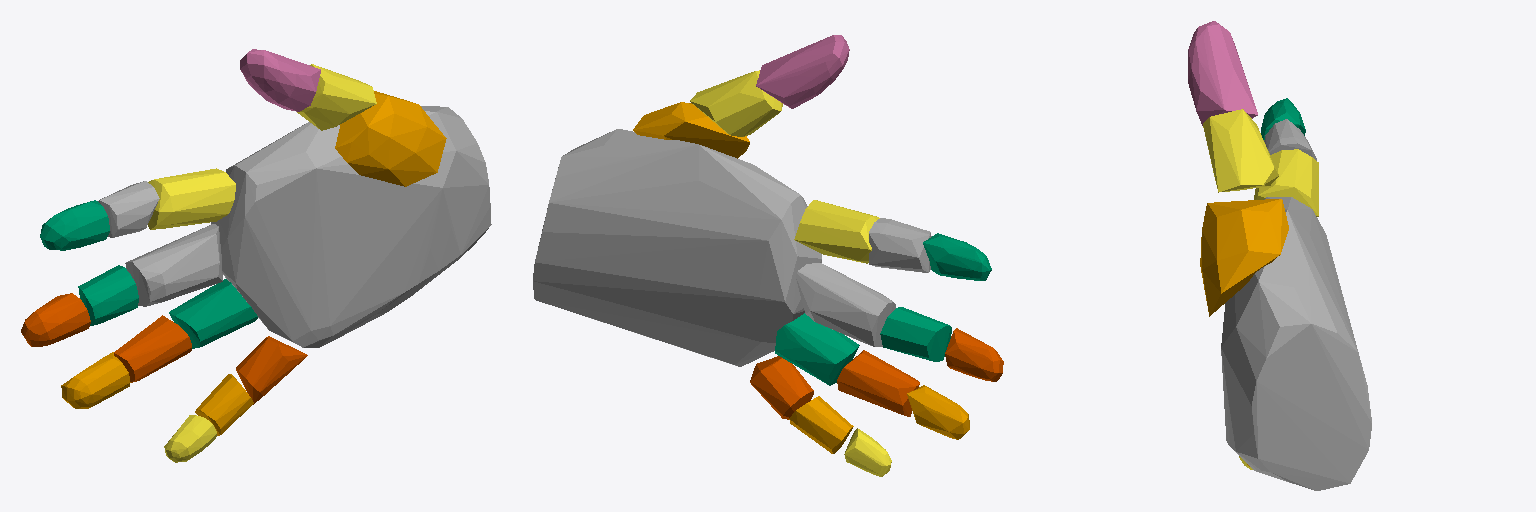
--- What the picture shows (computed from the rendered views, not written in the file) ---
Views: 3 orthographic renders of the robot side by side, from view 1: azimuth 30°, elevation 25°; view 2: azimuth 150°, elevation 25°; view 3: azimuth 270°, elevation 25°.
Robot: mano — 64 links, 63 joints (48 revolute, 3 prismatic, 12 fixed); root link world; default pose: every joint at zero.
Visible links, largest first — view 1: link_palm_rz, link_th_pm_z, link_mf_pm_z, link_ff_pm_z, link_th_dd_z, link_rf_pm_z, link_rf_md_z, link_th_md_z, link_ff_dd_z, link_mf_dd_z, link_lf_pm_z, link_mf_md_z (+4 smaller); view 2: link_palm_rz, link_mf_pm_z, link_th_dd_z, link_rf_pm_z, link_ff_pm_z, link_th_md_z, link_th_pm_z, link_rf_md_z, link_mf_md_z, link_ff_md_z, link_lf_pm_z, link_ff_dd_z (+4 smaller); view 3: link_palm_rz, link_th_pm_z, link_th_dd_z, link_th_md_z, link_ff_pm_z, link_ff_md_z, link_ff_dd_z.
Link boxes in pixels (left/top/right/bottom): link_palm_rz: left=211, top=106, right=491, bottom=347; link_th_pm_z: left=335, top=91, right=446, bottom=186; link_mf_pm_z: left=125, top=224, right=222, bottom=306; link_ff_pm_z: left=148, top=168, right=235, bottom=229; link_th_dd_z: left=240, top=49, right=320, bottom=111; link_rf_pm_z: left=169, top=279, right=257, bottom=348; link_rf_md_z: left=114, top=315, right=191, bottom=382; link_th_md_z: left=297, top=64, right=376, bottom=130; link_ff_dd_z: left=40, top=200, right=109, bottom=250; link_mf_dd_z: left=21, top=293, right=90, bottom=346; link_lf_pm_z: left=236, top=336, right=307, bottom=404; link_mf_md_z: left=78, top=265, right=138, bottom=325; link_palm_rz: left=533, top=129, right=821, bottom=366; link_mf_pm_z: left=796, top=263, right=895, bottom=346; link_th_dd_z: left=756, top=35, right=849, bottom=108; link_rf_pm_z: left=775, top=313, right=859, bottom=385; link_ff_pm_z: left=794, top=200, right=879, bottom=263; link_th_md_z: left=690, top=70, right=782, bottom=136; link_th_pm_z: left=633, top=102, right=749, bottom=158; link_rf_md_z: left=837, top=350, right=919, bottom=416; link_mf_md_z: left=880, top=307, right=951, bottom=361; link_ff_md_z: left=869, top=218, right=931, bottom=272; link_lf_pm_z: left=750, top=356, right=813, bottom=419; link_ff_dd_z: left=923, top=233, right=991, bottom=280; link_palm_rz: left=1221, top=197, right=1371, bottom=490; link_th_pm_z: left=1200, top=199, right=1288, bottom=316; link_th_dd_z: left=1188, top=21, right=1257, bottom=125; link_th_md_z: left=1203, top=109, right=1278, bottom=192; link_ff_pm_z: left=1254, top=149, right=1318, bottom=216; link_ff_md_z: left=1264, top=119, right=1316, bottom=160; link_ff_dd_z: left=1261, top=98, right=1305, bottom=139.
Size in the robot's own frame: 0.1951 by 0.0594 by 0.1689 metres.
16 mesh visuals loaded from 16 distinct referenced files (16 binary STL).

URDF robot description (mano):
<?xml version="0.0" ?>
<robot name="mano">



  <link name="world">  </link>

  <joint name="world_to_base" type="fixed">
    <axis xyz="0 0 0"/>
    <origin xyz="0.0 0.0 0.0"/>
    <parent link="world"/>
    <child link="sliderBar"/>
  </joint>

  <link name="sliderBar">
    <inertial>
      <mass value="0"/>
      <inertia ixx="1.0" ixy="0.0" ixz="0.0" iyy="1.0" iyz="0.0" izz="1.0"/>
    </inertial>
  </link>

    <!--
      Palm
    -->
    <!-- Palm -->
    <link name="palm">
		<inertial>
			<origin rpy="1.58112 0.01503 1.64315" xyz="-0.03429 -0.00198 0.00005"/>
			<mass value="0.25042"/>
			<inertia ixx="0.00043" ixy="0" ixz="0" iyy="0.00029" iyz="0" izz="0.00020"/>
		</inertial>
    </link>

    <link name="link_palm_y">
        <inertial>
            <origin rpy="0.00000 -0.00000 0.00000" xyz="0.00000 0.00000 0.00000"/>
            <mass value="0.00000"/>
            <inertia ixx="0.00000" ixy="0" ixz="0" iyy="0.00000" iyz="0" izz="0.00000"/>
        </inertial>
    </link>
    <link name="link_palm_z">
        <inertial>
            <origin rpy="0.00000 -0.00000 0.00000" xyz="0.00000 0.00000 0.00000"/>
            <mass value="0.00000"/>
            <inertia ixx="0.00000" ixy="0" ixz="0" iyy="0.00000" iyz="0" izz="0.00000"/>
        </inertial>
    </link>
    <link name="link_palm_rx">
        <inertial>
            <origin rpy="0.00000 -0.00000 0.00000" xyz="0.00000 0.00000 0.00000"/>
            <mass value="0.00000"/>
            <inertia ixx="0.00000" ixy="0" ixz="0" iyy="0.00000" iyz="0" izz="0.00000"/>
        </inertial>
    </link>
    <link name="link_palm_ry">
        <inertial>
            <origin rpy="0.00000 -0.00000 0.00000" xyz="0.00000 0.00000 0.00000"/>
            <mass value="0.00000"/>
            <inertia ixx="0.00000" ixy="0" ixz="0" iyy="0.00000" iyz="0" izz="0.00000"/>
        </inertial>
    </link>
    <link name="link_palm_rz">
        <inertial>
            <origin rpy="0.00000 -0.00000 0.00000" xyz="0.00000 0.00000 0.00000"/>
            <mass value="0.00000"/>
            <inertia ixx="0.00000" ixy="0" ixz="0" iyy="0.00000" iyz="0" izz="0.00000"/>
        </inertial>
        <visual>
            <origin rpy="0 0 0.0" xyz="0 0 0"/>
            <geometry>
                <mesh filename="meshes/palm_mean.stl" scale="1 1 1"/>
            </geometry>
        </visual>


    </link>
    <!-- Hip joint -->
   <joint name="WRJ0x" type="prismatic">
        <parent link="sliderBar"/>
        <child link="palm"/>
        <origin xyz="0.0 0.0 0.0"/>
        <axis xyz="1 0 0"/>
        <limit effort="100.0" />
        <dynamics damping="10.0" friction="0.0001"/>
    </joint>
    <joint name="WRJ0y" type="prismatic">
        <parent link="palm"/>
        <child link="link_palm_y"/>
        <origin xyz="0.0 0.0 0.0"/>
        <axis xyz="0 1 0"/>
        <limit effort="100.0" />
        <dynamics damping="10.0" friction="0.0001"/>
    </joint>
    <joint name="WRJ0z" type="prismatic">
        <parent link="link_palm_y"/>
        <child link="link_palm_z"/>
        <origin xyz="0.0 0.0 0.0"/>
        <axis xyz="0 0 1"/>
        <limit effort="100.0" />
        <dynamics damping="10.0" friction="0.0001"/>
    </joint>
    <joint name="WRJ0rx" type="revolute">
        <parent link="link_palm_z"/>
        <child link="link_palm_rx"/>
        <origin xyz="0.0 0.0 0.0"/>
        <axis xyz="1 0 0"/>
        <limit effort="1000" lower="-3.14" upper="3.14" velocity="0.5"/>
    </joint>
    <joint name="WRJ0ry" type="revolute">
        <parent link="link_palm_rx"/>
        <child link="link_palm_ry"/>
        <origin xyz="0.0 0.0 0.0"/>
        <axis xyz="0 1 0"/>
        <limit effort="1000" lower="-3.14" upper="3.14"  velocity="0.5"/>
    </joint>
    <joint name="WRJ0rz" type="revolute">
        <parent link="link_palm_ry"/>
        <child link="link_palm_rz"/>
        <origin xyz="0.0 0.0 0.0"/>
        <axis xyz="0 0 1"/>
        <limit effort="1000" lower="-3.14" upper="3.14"  velocity="0.5"/>
    </joint>


     <!-- FF -->
    <link name="fffixed">
        <inertial>
            <origin rpy="0.00000 -0.00000 0.00000" xyz="0.00000 0.00000 0.00000"/>
            <mass value="0.0"/>
            <inertia ixx="0.00000" ixy="0" ixz="0" iyy="0.00000" iyz="0" izz="0.00000"/>
        </inertial>
    </link>
    <!-- Fix Finger joint -->
    <joint name="Palm_FFJ2" type="fixed">
        <parent link="link_palm_rz"/>
        <child link="fffixed"/>
        <origin xyz="0.0 0.0 0.0"/>
    </joint>


    <link name="ffproximal">
		<inertial>
			<origin rpy="-0.62614 -1.47063 -2.57808" xyz="0.06969 0.00857 -0.01920"/>
			<mass value="0.00845"/>
			<inertia ixx="0.00000" ixy="0" ixz="0" iyy="0.00000" iyz="0" izz="0.00000"/>
		</inertial>
    </link>
    <link name="link_ff_pm_y">
        <inertial>
            <origin rpy="0.00000 -0.00000 0.00000" xyz="0.00000 0.00000 0.00000"/>
            <mass value="0.00000"/>
            <inertia ixx="0.00000" ixy="0" ixz="0" iyy="0.00000" iyz="0" izz="0.00000"/>
        </inertial>
    </link>
    <link name="link_ff_pm_z">
        <inertial>
            <origin rpy="0.00000 -0.00000 0.00000" xyz="0.00000 0.00000 0.00000"/>
            <mass value="0.00000"/>
            <inertia ixx="0.00000" ixy="0" ixz="0" iyy="0.00000" iyz="0" izz="0.00000"/>
        </inertial>

       <visual>
           <origin rpy="0 0 0.0" xyz="0 0 0"/>
           <geometry>
               <mesh filename="meshes/ffprox_mean.stl" scale="1 1 1"/>
           </geometry>
       </visual>
    </link>
    <!-- FF2 proximal joint -->
    <joint name="FFJ2" type="revolute">
        <parent link="fffixed"/>
        <child link="ffproximal"/>
        <origin xyz="-0.0880972 -0.00520036 0.020686"/>
        <axis xyz="1 0 0"/>
        <limit effort="1000" lower="-0.25000" upper="0.25000" velocity="0.5"/>

    </joint>
    <joint name="FFJ2_y" type="revolute">
        <parent link="ffproximal"/>
        <child link="link_ff_pm_y"/>
        <origin xyz="0 0 0"/>
        <axis xyz="0 1 0"/>
        <limit effort="1000" lower="-0.8" upper="0.8" velocity="0.5"/>

    </joint>
    <joint name="FFJ2_z" type="revolute">
        <parent link="link_ff_pm_y"/>
        <child link="link_ff_pm_z"/>
        <origin xyz="0 0 0"/>
        <axis xyz="0 0 1"/>
        <limit effort="1000" lower="-0.0" upper="1.57" velocity="0.5"/>

    </joint>

  <link name="ffmiddle_fixed">
        <inertial>
            <origin rpy="0.00000 -0.00000 0.00000" xyz="0.00000 0.00000 0.00000"/>
            <mass value="0.0"/>
            <inertia ixx="0.00000" ixy="0" ixz="0" iyy="0.00000" iyz="0" izz="0.00000"/>
        </inertial>
    </link>
    <link name="ffmiddle">
		<inertial>
			<origin rpy="1.37262 -0.25251 1.73296" xyz="0.10956 0.00102 -0.02288"/>
			<mass value="0.00413"/>
			<inertia ixx="0.00000" ixy="0" ixz="0" iyy="0.00000" iyz="0" izz="0.00000"/>
		</inertial>
    </link>
    <link name="link_ff_md_y">
        <inertial>
            <origin rpy="0.00000 -0.00000 0.00000" xyz="0.00000 0.00000 0.00000"/>
            <mass value="0.00000"/>
            <inertia ixx="0.00000" ixy="0" ixz="0" iyy="0.00000" iyz="0" izz="0.00000"/>
        </inertial>
    </link>
    <link name="link_ff_md_z">
        <inertial>
            <origin rpy="0.00000 -0.00000 0.00000" xyz="0.00000 0.00000 0.00000"/>
            <mass value="0.00000"/>
            <inertia ixx="0.00000" ixy="0" ixz="0" iyy="0.00000" iyz="0" izz="0.00000"/>
        </inertial>

       <visual>
           <origin rpy="0 0 0.0" xyz="0 0 0"/>
           <geometry>
               <mesh filename="meshes/ffmiddle_mean.stl" scale="1 1 1"/>
           </geometry>
       </visual>
    </link>
    <!-- FF1 joint -->
    <joint name="FFJ1_f" type="fixed">
        <parent link="link_ff_pm_z"/>
        <child link="ffmiddle_fixed"/>
        <origin xyz="-0.0326789 0.00400935 0.00221706"/>
        <axis xyz="1 0 0"/>
    </joint>
    <joint name="FFJ1" type="revolute">
        <parent link="ffmiddle_fixed"/>
        <child link="ffmiddle"/>
        <origin xyz="0.0 0.0 0.0"/>
        <axis xyz="1 0 0"/>
        <limit effort="1000" lower="-0.25000" upper="0.25000" velocity="0.5"/>

    </joint>
    <joint name="FFJ1_y" type="revolute">
        <parent link="ffmiddle"/>
        <child link="link_ff_md_y"/>
        <origin xyz="0.0 0.0 0.0"/>
        <axis xyz="0 1 0"/>
        <limit effort="1000" lower="-0.25000" upper="0.25000" velocity="0.5"/>

    </joint>
    <joint name="FFJ1_z" type="revolute">
        <parent link="link_ff_md_y"/>
        <child link="link_ff_md_z"/>
        <origin xyz="0.0 0.0 0.0"/>
        <axis xyz="0 0 1"/>
        <limit effort="1000" lower="-0.5000" upper="1.57" velocity="0.5"/>

    </joint>

    <link name="ffdistal">
		<inertial>
			<origin rpy="1.46564 0.28965 1.52696" xyz="0.13180 0.00199 -0.02293"/>
			<mass value="0.00293"/>
			<inertia ixx="0.00000" ixy="0" ixz="0" iyy="0.00000" iyz="0" izz="0.00000"/>
		</inertial>
    </link>
    <link name="link_ff_dd_y">
        <inertial>
            <origin rpy="0.00000 -0.00000 0.00000" xyz="0.00000 0.00000 0.00000"/>
            <mass value="0.00000"/>
            <inertia ixx="0.00000" ixy="0" ixz="0" iyy="0.00000" iyz="0" izz="0.00000"/>
        </inertial>
    </link>
    <link name="link_ff_dd_z">
        <inertial>
            <origin rpy="0.00000 -0.00000 0.00000" xyz="0.00000 0.00000 0.00000"/>
            <mass value="0.00000"/>
            <inertia ixx="0.00000" ixy="0" ixz="0" iyy="0.00000" iyz="0" izz="0.00000"/>
        </inertial>

       <visual>
           <origin rpy="0 0 0.0" xyz="0 0 0"/>
           <geometry>
               <mesh filename="meshes/ffdist_mean.stl" scale="1 1 1"/>
           </geometry>
       </visual>
    </link>
    <!-- FF1 joint -->
    <joint name="FFJ0" type="revolute">
        <parent link="link_ff_md_z"/>
        <child link="ffdistal"/>
        <origin xyz="-0.0221559 -0.00129842 -0.000114109"/>
        <axis xyz="1 0 0"/>
        <limit effort="1000" lower="-0.25000" upper="0.25000" velocity="0.5"/>

    </joint>
    <joint name="FFJ0_y" type="revolute">
        <parent link="ffdistal"/>
        <child link="link_ff_dd_y"/>
        <origin xyz="0.0 0.0 0.0"/>
        <axis xyz="0 1 0"/>
        <limit effort="1000" lower="-0.25000" upper="0.25000" velocity="0.5"/>

    </joint>
    <joint name="FFJ0_z" type="revolute">
        <parent link="link_ff_dd_y"/>
        <child link="link_ff_dd_z"/>
        <origin xyz="0.0 0.0 0.0"/>
        <axis xyz="0 0 1"/>
        <limit effort="1000" lower="-0.000" upper="1.57" velocity="0.5"/>

    </joint>

    <link name="link_fftip">
                <inertial>
                    <origin rpy="0.00000 -0.00000 0.00000" xyz="0.00000 0.00000 0.00000"/>
                    <mass value="0.00000"/>
                    <inertia ixx="0.00000" ixy="0" ixz="0" iyy="0.00000" iyz="0" izz="0.00000"/>
                </inertial>
    </link>
        <!-- Fix Finger joint -->
    <joint name="FFTip" type="fixed">
            <parent link="link_ff_dd_z"/>
            <child link="link_fftip"/>
            <origin xyz="-0.02326277  0.00071796  0.00404926"/>
    </joint>

    <!-- MF -->
    <link name="mffixed">
        <inertial>
            <origin rpy="0.00000 -0.00000 0.00000" xyz="0.00000 0.00000 0.00000"/>
            <mass value="0.0"/>
            <inertia ixx="0.00000" ixy="0" ixz="0" iyy="0.00000" iyz="0" izz="0.00000"/>
        </inertial>
    </link>
    <!-- Fix Finger joint -->
    <joint name="Palm_MFJ2" type="fixed">
        <parent link="link_palm_rz"/>
        <child link="mffixed"/>
        <origin xyz="0.0 0.0 0.0"/>
    </joint>


    <link name="mfproximal">
		<inertial>
			<origin rpy="1.32892 0.20760 1.52264" xyz="0.08062 0.00385 0.00038"/>
			<mass value="0.00996"/>
			<inertia ixx="0.00000" ixy="0" ixz="0" iyy="0.00000" iyz="0" izz="0.00000"/>
		</inertial>
    </link>
    <link name="link_mf_pm_y">
        <inertial>
            <origin rpy="0.00000 -0.00000 0.00000" xyz="0.00000 0.00000 0.00000"/>
            <mass value="0.00000"/>
            <inertia ixx="0.00000" ixy="0" ixz="0" iyy="0.00000" iyz="0" izz="0.00000"/>
        </inertial>
    </link>
    <link name="link_mf_pm_z">
        <inertial>
            <origin rpy="0.00000 -0.00000 0.00000" xyz="0.00000 0.00000 0.00000"/>
            <mass value="0.00000"/>
            <inertia ixx="0.00000" ixy="0" ixz="0" iyy="0.00000" iyz="0" izz="0.00000"/>
        </inertial>

       <visual>
           <origin rpy="0 0 0.0" xyz="0 0 0"/>
           <geometry>
               <mesh filename="meshes/mfprox_mean.stl" scale="1 1 1"/>
           </geometry>
       </visual>

    </link>
    <!-- MF2 proximal joint -->
    <joint name="MFJ2" type="revolute">
        <parent link="mffixed"/>
        <child link="mfproximal"/>
        <origin xyz="-0.0946604 -0.00147896 -0.00335754"/>
        <axis xyz="1 0 0"/>
        <limit effort="1000" lower="-0.25000" upper="0.25000" velocity="0.5"/>

    </joint>
    <joint name="MFJ2_y" type="revolute">
        <parent link="mfproximal"/>
        <child link="link_mf_pm_y"/>
        <origin xyz="0.0 0.0 0.0"/>
        <axis xyz="0 1 0"/>
        <limit effort="1000" lower="-0.8" upper="0.8" velocity="0.5"/>

    </joint>
    <joint name="MFJ2_z" type="revolute">
        <parent link="link_mf_pm_y"/>
        <child link="link_mf_pm_z"/>
        <origin xyz="0.0 0.0 0.0"/>
        <axis xyz="0 0 1"/>
        <limit effort="1000" lower="-0.0" upper="1.57" velocity="0.5"/>

    </joint>

    <link name="mfmiddle">
		<inertial>
			<origin rpy="1.36785 0.19063 1.79335" xyz="0.11276 -0.00059 0.00674"/>
			<mass value="0.00400"/>
			<inertia ixx="0.00000" ixy="0" ixz="0" iyy="0.00000" iyz="0" izz="0.00000"/>
		</inertial>
    </link>
    <link name="link_mf_md_y">
        <inertial>
            <origin rpy="0.00000 -0.00000 0.00000" xyz="0.00000 0.00000 0.00000"/>
            <mass value="0.00000"/>
            <inertia ixx="0.00000" ixy="0" ixz="0" iyy="0.00000" iyz="0" izz="0.00000"/>
        </inertial>
    </link>
    <link name="link_mf_md_z">
        <inertial>
            <origin rpy="0.00000 -0.00000 0.00000" xyz="0.00000 0.00000 0.00000"/>
            <mass value="0.00000"/>
            <inertia ixx="0.00000" ixy="0" ixz="0" iyy="0.00000" iyz="0" izz="0.00000"/>
        </inertial>

   <visual>
       <origin rpy="0 0 0.0" xyz="0 0 0"/>
       <geometry>
           <mesh filename="meshes/mfmiddle_mean.stl" scale="1 1 1"/>
       </geometry>
   </visual>
    </link>
    <!-- MF1 joint -->
    <joint name="MFJ1" type="revolute">
        <parent link="link_mf_pm_z"/>
        <child link="mfmiddle"/>
        <origin xyz="-0.0311827 0.00186133 -0.00559451"/>
        <axis xyz="1 0 0"/>
        <limit effort="1000" lower="-0.25000" upper="0.25000" velocity="0.5"/>

    </joint>
    <joint name="MFJ1_y" type="revolute">
        <parent link="mfmiddle"/>
        <child link="link_mf_md_y"/>
        <origin xyz="0.0 0.0 0.0"/>
        <axis xyz="0 1 0"/>
        <limit effort="1000" lower="-0.25000" upper="0.25000" velocity="0.5"/>

    </joint>
    <joint name="MFJ1_z" type="revolute">
        <parent link="link_mf_md_y"/>
        <child link="link_mf_md_z"/>
        <origin xyz="0.0 0.0 0.0"/>
        <axis xyz="0 0 1"/>
        <limit effort="1000" lower="-0.000" upper="1.57" velocity="0.5"/>

    </joint>

    <link name="mfdistal">
		<inertial>
			<origin rpy="1.31977 0.24217 1.38225" xyz="0.13534 0.00074 0.01081"/>
			<mass value="0.00289"/>
			<inertia ixx="0.00000" ixy="0" ixz="0" iyy="0.00000" iyz="0" izz="0.00000"/>
		</inertial>
    </link>
    <link name="link_mf_dd_y">
        <inertial>
            <origin rpy="0.00000 -0.00000 0.00000" xyz="0.00000 0.00000 0.00000"/>
            <mass value="0.00000"/>
            <inertia ixx="0.00000" ixy="0" ixz="0" iyy="0.00000" iyz="0" izz="0.00000"/>
        </inertial>
    </link>
    <link name="link_mf_dd_z">
        <inertial>
            <origin rpy="0.00000 -0.00000 0.00000" xyz="0.00000 0.00000 0.00000"/>
            <mass value="0.00000"/>
            <inertia ixx="0.00000" ixy="0" ixz="0" iyy="0.00000" iyz="0" izz="0.00000"/>
        </inertial>

       <visual>
           <origin rpy="0 0 0.0" xyz="0 0 0"/>
           <geometry>
               <mesh filename="meshes/mfdist_mean.stl" scale="1 1 1"/>
           </geometry>
       </visual>
    </link>
    <!-- MF0 joint -->
    <joint name="MFJ0" type="revolute">
        <parent link="link_mf_md_z"/>
        <child link="mfdistal"/>
        <origin xyz="-0.0229046 -0.0012521 -0.00394452"/>
        <axis xyz="1 0 0"/>
        <limit effort="1000" lower="-0.25000" upper="0.25000" velocity="0.5"/>

    </joint>
    <joint name="MFJ0_y" type="revolute">
        <parent link="mfdistal"/>
        <child link="link_mf_dd_y"/>
        <origin xyz="0.0 0.0 0.0"/>
        <axis xyz="0 1 0"/>
        <limit effort="1000" lower="-0.25000" upper="0.25000" velocity="0.5"/>

    </joint>
    <joint name="MFJ0_z" type="revolute">
        <parent link="link_mf_dd_y"/>
        <child link="link_mf_dd_z"/>
        <origin xyz="0.0 0.0 0.0"/>
        <axis xyz="0 0 1"/>
        <limit effort="1000" lower="-0.000" upper="1.57" velocity="0.5"/>

    </joint>

    <link name="link_mftip">
            <inertial>
                <origin rpy="0.00000 -0.00000 0.00000" xyz="0.00000 0.00000 0.00000"/>
                <mass value="0.00000"/>
                <inertia ixx="0.00000" ixy="0" ixz="0" iyy="0.00000" iyz="0" izz="0.00000"/>
            </inertial>
    </link>
        <!-- Fix Finger joint -->
    <joint name="MFTip" type="fixed">
            <parent link="link_mf_dd_z"/>
            <child link="link_mftip"/>
            <origin xyz="-0.03103006 -0.0014151  -0.00637153"/>
    </joint>

    <!-- RF -->
    <link name="rffixed">
        <inertial>
            <origin rpy="0.00000 -0.00000 0.00000" xyz="0.00000 0.00000 0.00000"/>
            <mass value="0.0"/>
            <inertia ixx="0.00000" ixy="0" ixz="0" iyy="0.00000" iyz="0" izz="0.00000"/>
        </inertial>
    </link>

    <!-- Fix Finger joint -->
    <joint name="Palm_RFJ2" type="fixed">
        <parent link="link_palm_rz"/>
        <child link="rffixed"/>
        <origin xyz="0.0 0.0 0.0"/>
    </joint>


    <link name="rfproximal">
		<inertial>
			<origin rpy="-1.12499 -1.03767 -1.92594" xyz="0.06944 0.00644 0.02597"/>
			<mass value="0.00725"/>
			<inertia ixx="0.00000" ixy="0" ixz="0" iyy="0.00000" iyz="0" izz="0.00000"/>
		</inertial>
    </link>
    <link name="link_rf_pm_y">
        <inertial>
            <origin rpy="0.00000 -0.00000 0.00000" xyz="0.00000 0.00000 0.00000"/>
            <mass value="0.00000"/>
            <inertia ixx="0.00000" ixy="0" ixz="0" iyy="0.00000" iyz="0" izz="0.00000"/>
        </inertial>
    </link>
    <link name="link_rf_pm_z">
        <inertial>
            <origin rpy="0.00000 -0.00000 0.00000" xyz="0.00000 0.00000 0.00000"/>
            <mass value="0.00000"/>
            <inertia ixx="0.00000" ixy="0" ixz="0" iyy="0.00000" iyz="0" izz="0.00000"/>
        </inertial>

       <visual>
           <origin rpy="0 0 0.0" xyz="0 0 0"/>
           <geometry>
               <mesh filename="meshes/rfprox_mean.stl" scale="1 1 1"/>
           </geometry>
       </visual>
    </link>
    <!-- RF2 proximal joint -->
    <joint name="RFJ2" type="revolute">
        <parent link="rffixed"/>
        <child link="rfproximal"/>
        <origin xyz="-0.0817355 -0.00395742 -0.0266732"/>
        <axis xyz="1 0 0"/>
        <limit effort="1000" lower="-0.25000" upper="0.25000" velocity="0.5"/>

    </joint>
    <joint name="RFJ2_y" type="revolute">
        <parent link="rfproximal"/>
        <child link="link_rf_pm_y"/>
        <origin xyz="0.0 0.0 0.0"/>
        <axis xyz="0 1 0"/>
        <limit effort="1000" lower="-0.8" upper="0.8" velocity="0.5"/>

    </joint>
    <joint name="RFJ2_z" type="revolute">
        <parent link="link_rf_pm_y"/>
        <child link="link_rf_pm_z"/>
        <origin xyz="0.0 0.0 0.0"/>
        <axis xyz="0 0 1"/>
        <limit effort="1000" lower="-0.0" upper="1.57" velocity="0.5"/>

    </joint>

    <link name="rfmiddle">
		<inertial>
			<origin rpy="1.27220 0.24142 1.59300" xyz="0.09885 0.00150 0.02757"/>
			<mass value="0.00487"/>
			<inertia ixx="0.00000" ixy="0" ixz="0" iyy="0.00000" iyz="0" izz="0.00000"/>
		</inertial>
    </link>
    <link name="link_rf_md_y">
        <inertial>
            <origin rpy="0.00000 -0.00000 0.00000" xyz="0.00000 0.00000 0.00000"/>
            <mass value="0.00000"/>
            <inertia ixx="0.00000" ixy="0" ixz="0" iyy="0.00000" iyz="0" izz="0.00000"/>
        </inertial>
    </link>
    <link name="link_rf_md_z">
        <inertial>
            <origin rpy="0.00000 -0.00000 0.00000" xyz="0.00000 0.00000 0.00000"/>
            <mass value="0.00000"/>
            <inertia ixx="0.00000" ixy="0" ixz="0" iyy="0.00000" iyz="0" izz="0.00000"/>
        </inertial>

       <visual>
           <origin rpy="0 0 0.0" xyz="0 0 0"/>
           <geometry>
               <mesh filename="meshes/rfmiddle_mean.stl" scale="1 1 1"/>
           </geometry>
       </visual>
    </link>
    <!-- RF1 joint -->
    <joint name="RFJ1" type="revolute">
        <parent link="link_rf_pm_z"/>
        <child link="rfmiddle"/>
        <origin xyz="-0.0283143 0.00206701 -0.00509854"/>
        <axis xyz="1 0 0"/>
        <limit effort="1000" lower="-0.25000" upper="0.25000" velocity="0.5"/>

    </joint>
    <joint name="RFJ1_y" type="revolute">
        <parent link="rfmiddle"/>
        <child link="link_rf_md_y"/>
        <origin xyz="0.0 0.0 0.0"/>
        <axis xyz="0 1 0"/>
        <limit effort="1000" lower="-0.25000" upper="0.25000" velocity="0.5"/>

    </joint>
    <joint name="RFJ1_z" type="revolute">
        <parent link="link_rf_md_y"/>
        <child link="link_rf_md_z"/>
        <origin xyz="0.0 0.0 0.0"/>
        <axis xyz="0 0 1"/>
        <limit effort="1000" lower="-0.000" upper="1.57" velocity="0.5"/>

    </joint>

    <link name="rfdistal">
		<inertial>
			<origin rpy="1.25957 0.23826 1.45394" xyz="0.12158 0.00349 0.03689"/>
			<mass value="0.00272"/>
			<inertia ixx="0.00000" ixy="0" ixz="0" iyy="0.00000" iyz="0" izz="0.00000"/>
		</inertial>
    </link>
    <link name="link_rf_dd_y">
        <inertial>
            <origin rpy="0.00000 -0.00000 0.00000" xyz="0.00000 0.00000 0.00000"/>
            <mass value="0.00000"/>
            <inertia ixx="0.00000" ixy="0" ixz="0" iyy="0.00000" iyz="0" izz="0.00000"/>
        </inertial>
    </link>
    <link name="link_rf_dd_z">
        <inertial>
            <origin rpy="0.00000 -0.00000 0.00000" xyz="0.00000 0.00000 0.00000"/>
            <mass value="0.00000"/>
            <inertia ixx="0.00000" ixy="0" ixz="0" iyy="0.00000" iyz="0" izz="0.00000"/>
        </inertial>

       <visual>
         <origin rpy="0 0 0.0" xyz="0 0 0"/>
         <geometry>
             <mesh filename="meshes/rfdist_mean.stl" scale="1 1 1"/>
         </geometry>
       </visual>
    </link>
    <!-- RF0 joint -->
    <joint name="RFJ0" type="revolute">
        <parent link="link_rf_md_z"/>
        <child link="rfdistal"/>
        <origin xyz="-0.0235205 -0.00168811 -0.00763382"/>
        <axis xyz="1 0 0"/>
        <limit effort="1000" lower="-0.25000" upper="0.25000" velocity="0.5"/>

    </joint>
    <joint name="RFJ0_y" type="revolute">
        <parent link="rfdistal"/>
        <child link="link_rf_dd_y"/>
        <origin xyz="0.0 0.0 0.0"/>
        <axis xyz="0 1 0"/>
        <limit effort="1000" lower="-0.25000" upper="0.25000" velocity="0.5"/>

    </joint>
    <joint name="RFJ0_z" type="revolute">
        <parent link="link_rf_dd_y"/>
        <child link="link_rf_dd_z"/>
        <origin xyz="0.0 0.0 0.0"/>
        <axis xyz="0 0 1"/>
        <limit effort="1000" lower="-0.000" upper="1.57" velocity="0.5"/>

    </joint>

    <link name="link_rftip">
            <inertial>
                <origin rpy="0.00000 -0.00000 0.00000" xyz="0.00000 0.00000 0.00000"/>
                <mass value="0.00000"/>
                <inertia ixx="0.00000" ixy="0" ixz="0" iyy="0.00000" iyz="0" izz="0.00000"/>
            </inertial>
    </link>
        <!-- Fix Finger joint -->
    <joint name="RFTip" type="fixed">
            <parent link="link_rf_dd_z"/>
            <child link="link_rftip"/>
            <origin xyz="-0.02920424  0.00374213 -0.00808987"/>
    </joint>

     <!-- LF -->
    <link name="lffixed">
        <inertial>
            <origin rpy="0.00000 -0.00000 0.00000" xyz="0.00000 0.00000 0.00000"/>
            <mass value="0.0"/>
            <inertia ixx="0.00000" ixy="0" ixz="0" iyy="0.00000" iyz="0" izz="0.00000"/>
        </inertial>
    </link>
    <!-- Fix Finger joint -->
    <joint name="Palm_LFJ2" type="fixed">
        <parent link="link_palm_rz"/>
        <child link="lffixed"/>
        <origin xyz="0.0 0.0 0.0"/>
    </joint>


    <link name="lfproximal">
		<inertial>
			<origin rpy="0.98931 0.08796 1.53876" xyz="0.06149 0.01115 0.03613"/>
			<mass value="0.00416"/>
			<inertia ixx="0.00000" ixy="0" ixz="0" iyy="0.00000" iyz="0" izz="0.00000"/>
		</inertial>
    </link>
    <link name="link_lf_pm_y">
        <inertial>
            <origin rpy="0.00000 -0.00000 0.00000" xyz="0.00000 0.00000 0.00000"/>
            <mass value="0.00000"/>
            <inertia ixx="0.00000" ixy="0" ixz="0" iyy="0.00000" iyz="0" izz="0.00000"/>
        </inertial>
    </link>
    <link name="link_lf_pm_z">
        <inertial>
            <origin rpy="0.00000 -0.00000 0.00000" xyz="0.00000 0.00000 0.00000"/>
            <mass value="0.00000"/>
            <inertia ixx="0.00000" ixy="0" ixz="0" iyy="0.00000" iyz="0" izz="0.00000"/>
        </inertial>

       <visual>
           <origin rpy="0 0 0.0" xyz="0 0 0"/>
           <geometry>
               <mesh filename="meshes/lfprox_mean.stl" scale="1 1 1"/>
           </geometry>
       </visual>
    </link>
    <!-- LF2 proximal joint -->
    <joint name="LFJ2" type="revolute">
        <parent link="lffixed"/>
        <child link="lfproximal"/>
        <origin xyz="-0.0687869 -0.00994033 -0.0432093"/>
        <axis xyz="1 0 0"/>
        <limit effort="1000" lower="-0.25000" upper="0.25000" velocity="0.5"/>

    </joint>
    <joint name="LFJ2_y" type="revolute">
        <parent link="lfproximal"/>
        <child link="link_lf_pm_y"/>
        <origin xyz="0.0 0.0 0.0"/>
        <axis xyz="0 1 0"/>
        <limit effort="1000" lower="-0.8" upper="0.8" velocity="0.5"/>

    </joint>
    <joint name="LFJ2_z" type="revolute">
        <parent link="link_lf_pm_y"/>
        <child link="link_lf_pm_z"/>
        <origin xyz="0.0 0.0 0.0"/>
        <axis xyz="0 0 1"/>
        <limit effort="1000"  lower="-0.0" upper="1.57" velocity="0.5"/>

    </joint>

    <link name="lfmiddle">
		<inertial>
			<origin rpy="0.93554 0.47504 1.36883" xyz="0.07794 0.01096 0.04952"/>
			<mass value="0.00269"/>
			<inertia ixx="0.00000" ixy="0" ixz="0" iyy="0.00000" iyz="0" izz="0.00000"/>
		</inertial>
    </link>
    <link name="link_lf_md_y">
        <inertial>
            <origin rpy="0.00000 -0.00000 0.00000" xyz="0.00000 0.00000 0.00000"/>
            <mass value="0.00000"/>
            <inertia ixx="0.00000" ixy="0" ixz="0" iyy="0.00000" iyz="0" izz="0.00000"/>
        </inertial>
    </link>
    <link name="link_lf_md_z">
        <inertial>
            <origin rpy="0.00000 -0.00000 0.00000" xyz="0.00000 0.00000 0.00000"/>
            <mass value="0.00000"/>
            <inertia ixx="0.00000" ixy="0" ixz="0" iyy="0.00000" iyz="0" izz="0.00000"/>
        </inertial>

   <visual>
       <origin rpy="0 0 0.0" xyz="0 0 0"/>
       <geometry>
           <mesh filename="meshes/lfmiddle_mean.stl" scale="1 1 1"/>
       </geometry>
   </visual>
    </link>
    <!-- LF1 joint -->
    <joint name="LFJ1" type="revolute">
        <parent link="link_lf_pm_z"/>
        <child link="lfmiddle"/>
        <origin xyz="-0.0170144 6.18249e-05 -0.0124988"/>
        <axis xyz="1 0 0"/>
        <limit effort="1000" lower="-0.25000" upper="0.25000" velocity="0.5"/>

    </joint>
    <joint name="LFJ1_y" type="revolute">
        <parent link="lfmiddle"/>
        <child link="link_lf_md_y"/>
        <origin xyz="0.0 0.0 0.0"/>
        <axis xyz="0 1 0"/>
        <limit effort="1000" lower="-0.25000" upper="0.25000" velocity="0.5"/>

    </joint>
    <joint name="LFJ1_z" type="revolute">
        <parent link="link_lf_md_y"/>
        <child link="link_lf_md_z"/>
        <origin xyz="0.0 0.0 0.0"/>
        <axis xyz="0 0 1"/>
        <limit effort="1000" lower="-0.000" upper="1.57" velocity="0.5"/>

    </joint>

    <link name="lfdistal">
		<inertial>
			<origin rpy="1.07016 0.12658 1.51486" xyz="0.09286 0.00961 0.06201"/>
			<mass value="0.00150"/>
			<inertia ixx="0.00000" ixy="0" ixz="0" iyy="0.00000" iyz="0" izz="0.00000"/>
		</inertial>
    </link>
    <link name="link_lf_dd_y">
        <inertial>
            <origin rpy="0.00000 -0.00000 0.00000" xyz="0.00000 0.00000 0.00000"/>
            <mass value="0.00000"/>
            <inertia ixx="0.00000" ixy="0" ixz="0" iyy="0.00000" iyz="0" izz="0.00000"/>
        </inertial>
    </link>
    <link name="link_lf_dd_z">
        <inertial>
            <origin rpy="0.00000 -0.00000 0.00000" xyz="0.00000 0.00000 0.00000"/>
            <mass value="0.00000"/>
            <inertia ixx="0.00000" ixy="0" ixz="0" iyy="0.00000" iyz="0" izz="0.00000"/>
        </inertial>

       <visual>
           <origin rpy="0 0 0.0" xyz="0 0 0"/>
           <geometry>
               <mesh filename="meshes/lfdist_mean.stl" scale="1 1 1"/>
           </geometry>
       </visual>
    </link>
    <!-- LF0 joint -->
    <joint name="LFJ0" type="revolute">
        <parent link="link_lf_md_z"/>
        <child link="lfdistal"/>
        <origin xyz="-0.0158669 -0.000691155 -0.0103319"/>
        <axis xyz="1 0 0"/>
        <limit effort="1000" lower="-0.25000" upper="0.25000" velocity="0.5"/>

    </joint>
    <joint name="LFJ0_y" type="revolute">
        <parent link="lfdistal"/>
        <child link="link_lf_dd_y"/>
        <origin xyz="0.0 0.0 0.0"/>
        <axis xyz="0 1 0"/>
        <limit effort="1000" lower="-0.25000" upper="0.25000" velocity="0.5"/>

    </joint>
    <joint name="LFJ0_z" type="revolute">
        <parent link="link_lf_dd_y"/>
        <child link="link_lf_dd_z"/>
        <origin xyz="0.0 0.0 0.0"/>
        <axis xyz="0 0 1"/>
        <limit effort="1000" lower="-0.000" upper="1.57" velocity="0.5"/>

    </joint>
    <link name="link_lftip">
        <inertial>
            <origin rpy="0.00000 -0.00000 0.00000" xyz="0.00000 0.00000 0.00000"/>
            <mass value="0.00000"/>
            <inertia ixx="0.00000" ixy="0" ixz="0" iyy="0.00000" iyz="0" izz="0.00000"/>
        </inertial>
    </link>
    <!-- Fix Finger joint -->
    <joint name="LFTip" type="fixed">
        <parent link="link_lf_dd_z"/>
        <child link="link_lftip"/>
        <origin xyz="-0.0195595   0.0025909  -0.01148116"/>
    </joint>


    <!-- TH -->
    <link name="thfixed">
        <inertial>
            <origin rpy="0.00000 -0.00000 0.00000" xyz="0.00000 0.00000 0.00000"/>
            <mass value="0.0"/>
            <inertia ixx="0.00000" ixy="0" ixz="0" iyy="0.00000" iyz="0" izz="0.00000"/>
        </inertial>
    </link>
    <!-- Fix Finger joint -->
    <joint name="Palm_THJ2" type="fixed">
        <parent link="link_palm_rz"/>
        <child link="thfixed"/>
        <origin xyz="0.0 0.0 0.0"/>
    </joint>


    <link name="thproximal">
		<inertial>
			<origin rpy="-1.80697 -0.79472 -1.24970" xyz="0.01872 0.01295 -0.01284"/>
			<mass value="0.01392"/>
			<inertia ixx="0.00000" ixy="0" ixz="0" iyy="0.00000" iyz="0" izz="0.00000"/>
		</inertial>
    </link>
    <link name="link_th_pm_y">
        <inertial>
            <origin rpy="0.00000 -0.00000 0.00000" xyz="0.00000 0.00000 0.00000"/>
            <mass value="0.00000"/>
            <inertia ixx="0.00000" ixy="0" ixz="0" iyy="0.00000" iyz="0" izz="0.00000"/>
        </inertial>
    </link>
    <link name="link_th_pm_z">
        <inertial>
            <origin rpy="0.00000 -0.00000 0.00000" xyz="0.00000 0.00000 0.00000"/>
            <mass value="0.00000"/>
            <inertia ixx="0.00000" ixy="0" ixz="0" iyy="0.00000" iyz="0" izz="0.00000"/>
        </inertial>

       <visual>
           <origin rpy="0 0 0.0" xyz="0 0 0"/>
           <geometry>
               <mesh filename="meshes/thprox_mean.stl" scale="1 1 1"/>
           </geometry>
       </visual>
    </link>
    <!-- TH2 proximal joint -->
    <joint name="THJ2" type="revolute">
        <parent link="thfixed"/>
        <child link="thproximal"/>
        <origin xyz="-0.0240897 -0.0155223 0.0258128"/>
        <axis xyz="1 0 0"/>
        <limit effort="1000" lower="0" upper="1.57" velocity="0.5"/>
    </joint>
    <joint name="THJ2_y" type="revolute">
        <parent link="thproximal"/>
        <child link="link_th_pm_y"/>
        <origin xyz="0.0 0.0 0.0"/>
        <axis xyz="0 1 0"/>
        <limit effort="1000" lower="-0.8" upper="0.8" velocity="0.5"/>
    </joint>
    <joint name="THJ2_z" type="revolute">
        <parent link="link_th_pm_y"/>
        <child link="link_th_pm_z"/>
        <origin xyz="0.0 0.0 0.0"/>
        <axis xyz="0 0 1"/>
        <limit effort="1000" lower="-0.25" upper="0.25" velocity="0.5"/>
    </joint>

    <link name="thmiddle">
		<inertial>
			<origin rpy="2.09811 -1.08828 1.27625" xyz="0.03297 0.01229 -0.04103"/>
			<mass value="0.00802"/>
			<inertia ixx="0.00000" ixy="0" ixz="0" iyy="0.00000" iyz="0" izz="0.00000"/>
		</inertial>
    </link>
    <link name="link_th_md_y">
        <inertial>
            <origin rpy="0.00000 -0.00000 0.00000" xyz="0.00000 0.00000 0.00000"/>
            <mass value="0.00000"/>
            <inertia ixx="0.00000" ixy="0" ixz="0" iyy="0.00000" iyz="0" izz="0.00000"/>
        </inertial>
    </link>
    <link name="link_th_md_z">
        <inertial>
            <origin rpy="0.00000 -0.00000 0.00000" xyz="0.00000 0.00000 0.00000"/>
            <mass value="0.00000"/>
            <inertia ixx="0.00000" ixy="0" ixz="0" iyy="0.00000" iyz="0" izz="0.00000"/>
        </inertial>

       <visual>
           <origin rpy="0 0 0.0" xyz="0 0 0"/>
           <geometry>
               <mesh filename="meshes/thmiddle_mean.stl" scale="1 1 1"/>
           </geometry>
       </visual>
    </link>
    <!-- TH1 joint -->
    <joint name="THJ1" type="revolute">
        <parent link="link_th_pm_z"/>
        <child link="thmiddle"/>
        <origin xyz="-0.0196332 0.000891286 0.0236995"/>
        <axis xyz="1 0 0"/>
        <limit effort="1000" lower="-1" upper="1" velocity="0.5"/>
    </joint>
    <joint name="THJ1_y" type="revolute">
        <parent link="thmiddle"/>
        <child link="link_th_md_y"/>
        <origin xyz="0.0 0.0 0.0"/>
        <axis xyz="0 1 0"/>
        <limit effort="1000" lower="-0.5" upper="0.5" velocity="0.5"/>
    </joint>
    <joint name="THJ1_z" type="revolute">
        <parent link="link_th_md_y"/>
        <child link="link_th_md_z"/>
        <origin xyz="0.0 0.0 0.0"/>
        <axis xyz="0 0 1"/>
        <limit effort="1000" lower="-0.5" upper="0.5" velocity="0.5"/>
    </joint>

    <link name="thdistal">
    <inertial>
        <origin rpy="2.56484 -0.79342 0.95392" xyz="0.05414 0.01779 -0.05485"/>
        <mass value="0.00726"/>
        <inertia ixx="0.00000" ixy="0" ixz="0" iyy="0.00000" iyz="0" izz="0.00000"/>
    </inertial>
    </link>
    <link name="link_th_dd_y">
        <inertial>
            <origin rpy="0.00000 -0.00000 0.00000" xyz="0.00000 0.00000 0.00000"/>
            <mass value="0.00000"/>
            <inertia ixx="0.00000" ixy="0" ixz="0" iyy="0.00000" iyz="0" izz="0.00000"/>
        </inertial>
    </link>
    <link name="link_th_dd_z">
        <inertial>
            <origin rpy="0.00000 -0.00000 0.00000" xyz="0.00000 0.00000 0.00000"/>
            <mass value="0.00000"/>
            <inertia ixx="0.00000" ixy="0" ixz="0" iyy="0.00000" iyz="0" izz="0.00000"/>
        </inertial>

       <visual>
           <origin rpy="0 0 0.0" xyz="0 0 0"/>
           <geometry>
               <mesh filename="meshes/thdist_mean.stl" scale="1 1 1"/>
           </geometry>
       </visual>
    </link>
    <!-- TH0 joint -->
    <joint name="THJ0" type="revolute">
        <parent link="link_th_md_z"/>
        <child link="thdistal"/>
        <origin xyz="-0.0222177 -0.00543297 0.0145241"/>
        <axis xyz="1 0 0"/>
        <limit effort="1000" lower="-0.000" upper="1.57" velocity="0.5"/>

    </joint>
    <joint name="THJ0_y" type="revolute">
        <parent link="thdistal"/>
        <child link="link_th_dd_y"/>
        <origin xyz="0.0 0.0 0.0"/>
        <axis xyz="0 1 0"/>
        <limit effort="1000" lower="-1.0000" upper="1.0000" velocity="0.5"/>

    </joint>
    <joint name="THJ0_z" type="revolute">
        <parent link="link_th_dd_y"/>
        <child link="link_th_dd_z"/>
        <origin xyz="0.0 0.0 0.0"/>
        <axis xyz="0 0 1"/>
        <limit effort="1000" lower="-1.0000" upper="1.0000" velocity="0.5"/>

    </joint>
    <link name="link_thtip">
        <inertial>
            <origin rpy="0.00000 -0.00000 0.00000" xyz="0.00000 0.00000 0.00000"/>
            <mass value="0.00000"/>
            <inertia ixx="0.00000" ixy="0" ixz="0" iyy="0.00000" iyz="0" izz="0.00000"/>
        </inertial>
    </link>
    <!-- Fix Finger joint -->
    <joint name="THTip" type="fixed">
        <parent link="link_th_dd_z"/>
        <child link="link_thtip"/>
        <origin xyz="-0.0315493  -0.00652654  0.02048647"/>
    </joint>


</robot>
